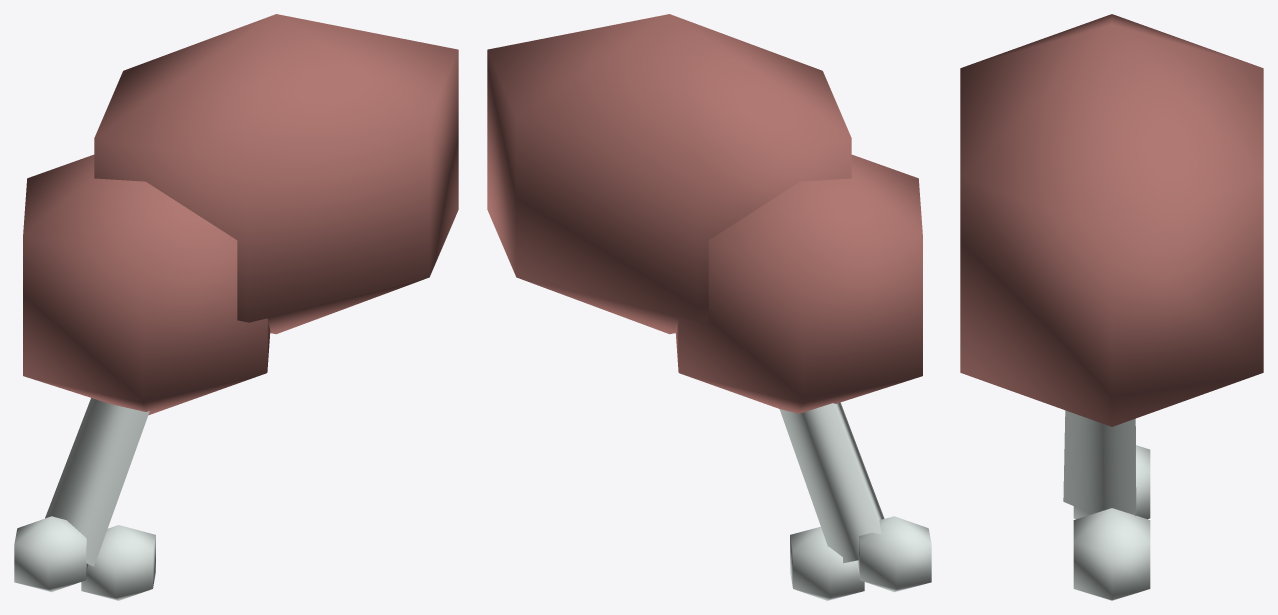
File: fixed-meat-lod2.glb
3 renders of one model, left to right at view 1: azimuth 30°, elevation 25°; view 2: azimuth 150°, elevation 25°; view 3: azimuth 270°, elevation 25°, orthographic. The views are drawn at different scales.
Parts seen in each view (by area): view 1: piece_whole; view 2: piece_whole; view 3: piece_whole.
Boxes of the visible parts, x1,y1,x2,y2 form: piece_whole: (14,14,458,600); piece_whole: (487,14,931,600); piece_whole: (960,14,1263,600).
Size of what is drawn, in the model's own units: 0.4645 by 0.548 by 0.225.
